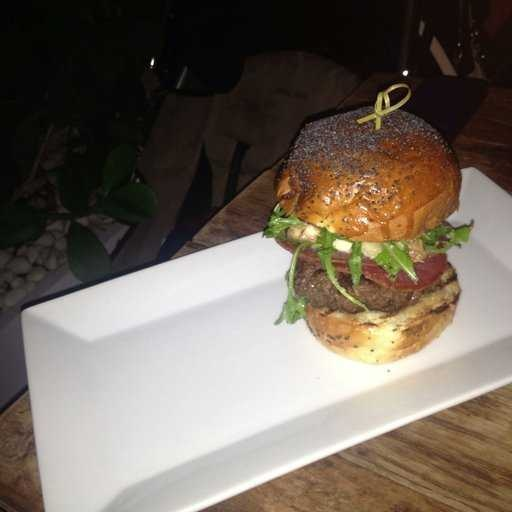hamburger: (282, 94, 483, 362)
